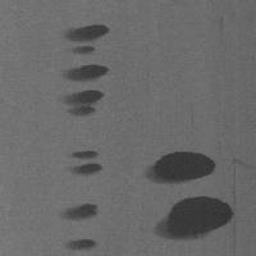Oil spot: (152, 195, 234, 242), (146, 151, 216, 184), (63, 23, 110, 55), (63, 90, 105, 118), (63, 64, 110, 83), (70, 150, 104, 175), (60, 202, 99, 220), (65, 238, 97, 251)
